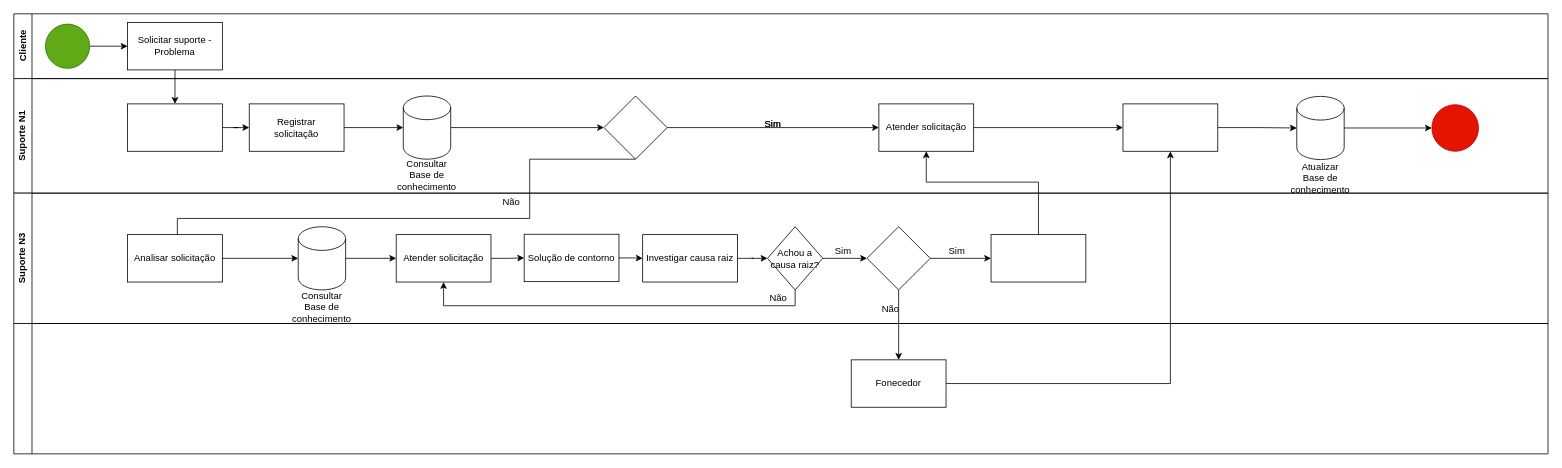
This 1562x468 diagram has some shape labels left out. The box of each missing label's shape, as (x1, y1, x2, y2) in pixels:
Avisar o cliente: (1122, 103, 1218, 151)
Fornecedor: (13, 323, 1548, 454)
Identificar Problema: (127, 103, 222, 151)
Solução definitiva: (990, 234, 1086, 282)
É possível resolver?: (866, 226, 930, 290)
É possível solucionar no N1?: (603, 95, 667, 159)
